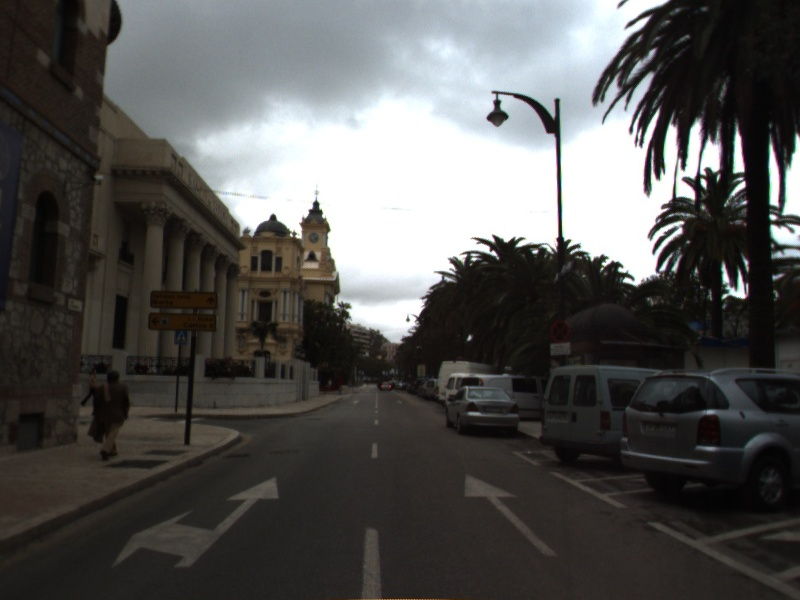STRAIGHT: (461, 471, 561, 559)
STRAIGHT_LEFT: (109, 474, 281, 570)
